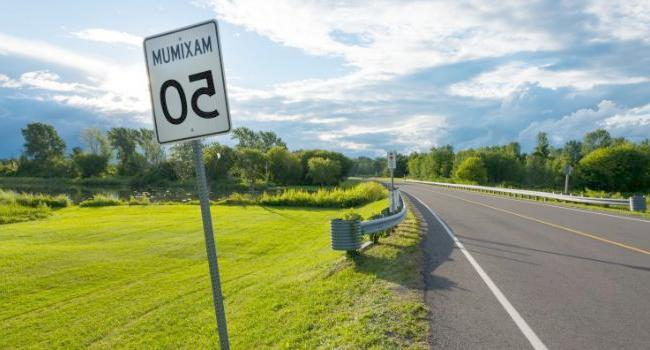speed limit sign: (144, 20, 232, 145)
